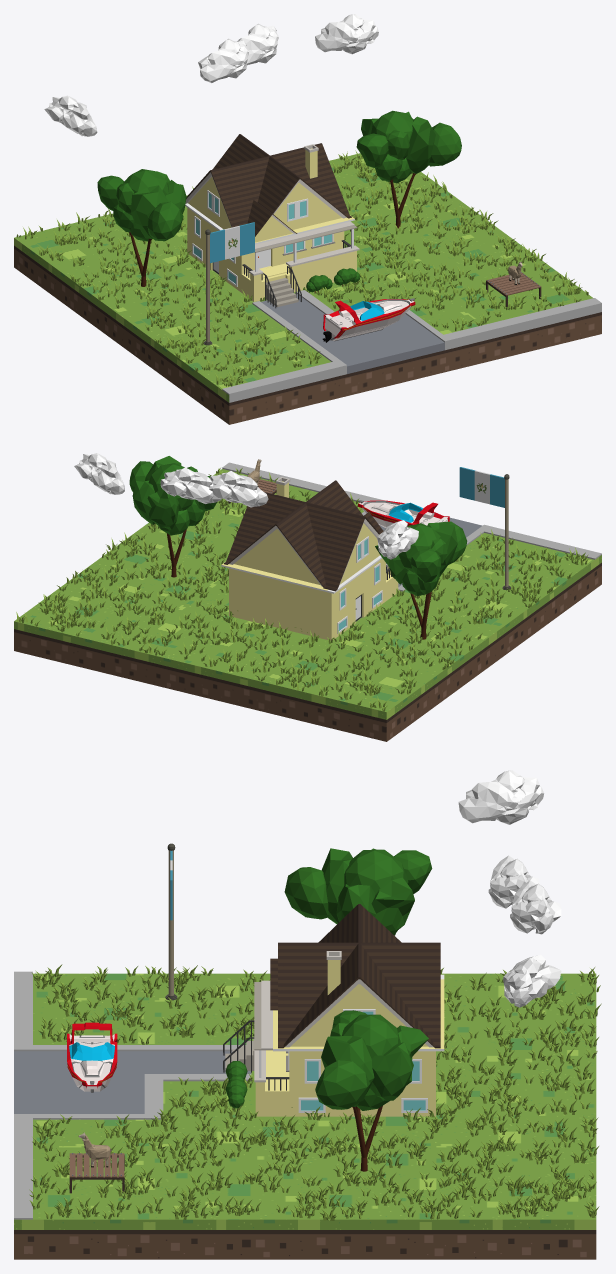
3 views of the same model, one above another, from view 1: azimuth 30°, elevation 25°; view 2: azimuth 150°, elevation 25°; view 3: azimuth 270°, elevation 25° (orthographic). The views are drawn at different scales.
Visible parts, largest first — view 1: Cube.006, Cube.1555, Circle.012_Grass_0.192, Cube.007, tree, tree.001, VEHICLES_BOAT, OBJRANDOM_GUATEMALAN_FLAG, Cube.009; view 2: Cube.006, Cube.1555, Circle.012_Grass_0.192, Cube.007, tree.001, tree, OBJRANDOM_GUATEMALAN_FLAG, VEHICLES_BOAT; view 3: Cube.006, Circle.012_Grass_0.192, Cube.1555, tree, Cube.007, tree.001, VEHICLES_BOAT, Cube.009, OBJRANDOM_GUATEMALAN_FLAG.
Boxes of the visible parts, box(x1,y1,x2,y2) form: Cube.006: box(14, 153, 601, 424); Cube.1555: box(185, 134, 359, 308); Circle.012_Grass_0.192: box(16, 150, 588, 386); Cube.007: box(44, 14, 378, 136); tree: box(356, 110, 461, 228); tree.001: box(97, 169, 186, 286); VEHICLES_BOAT: box(322, 298, 415, 342); OBJRANDOM_GUATEMALAN_FLAG: box(203, 222, 254, 345); Cube.009: box(486, 272, 541, 306); Cube.006: box(14, 462, 601, 741); Cube.1555: box(221, 477, 398, 640); Circle.012_Grass_0.192: box(16, 468, 588, 711); Cube.007: box(74, 453, 418, 559); tree.001: box(375, 521, 467, 639); tree: box(129, 456, 216, 577); OBJRANDOM_GUATEMALAN_FLAG: box(459, 467, 511, 590); VEHICLES_BOAT: box(358, 500, 449, 527); Cube.006: box(14, 971, 596, 1259); Circle.012_Grass_0.192: box(29, 964, 601, 1220); Cube.1555: box(223, 904, 444, 1116); tree: box(315, 1010, 428, 1171); Cube.007: box(458, 770, 561, 1007); tree.001: box(284, 848, 432, 935); VEHICLES_BOAT: box(67, 1022, 117, 1092); Cube.009: box(69, 1153, 124, 1193); OBJRANDOM_GUATEMALAN_FLAG: box(165, 843, 177, 1000).
Size of the model in its own units: 4071 by 2328 by 4040.
38 materials, 3 textured.
